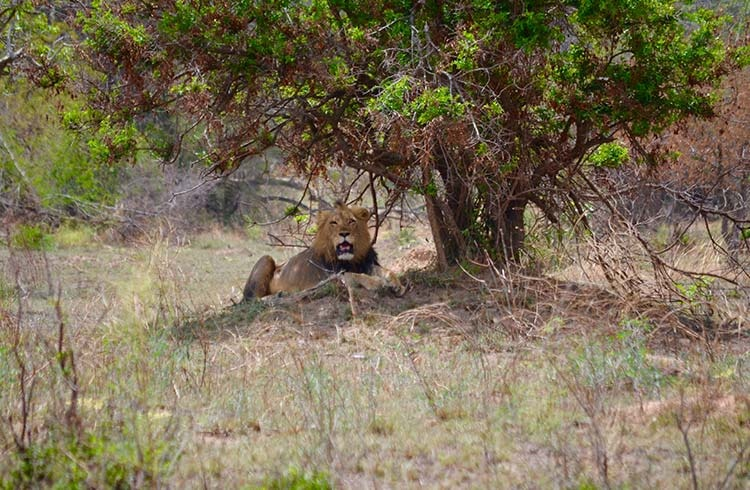lion: (231, 199, 417, 310)
